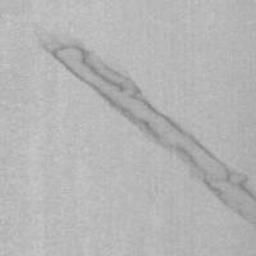Water spot: (33, 26, 256, 233)
